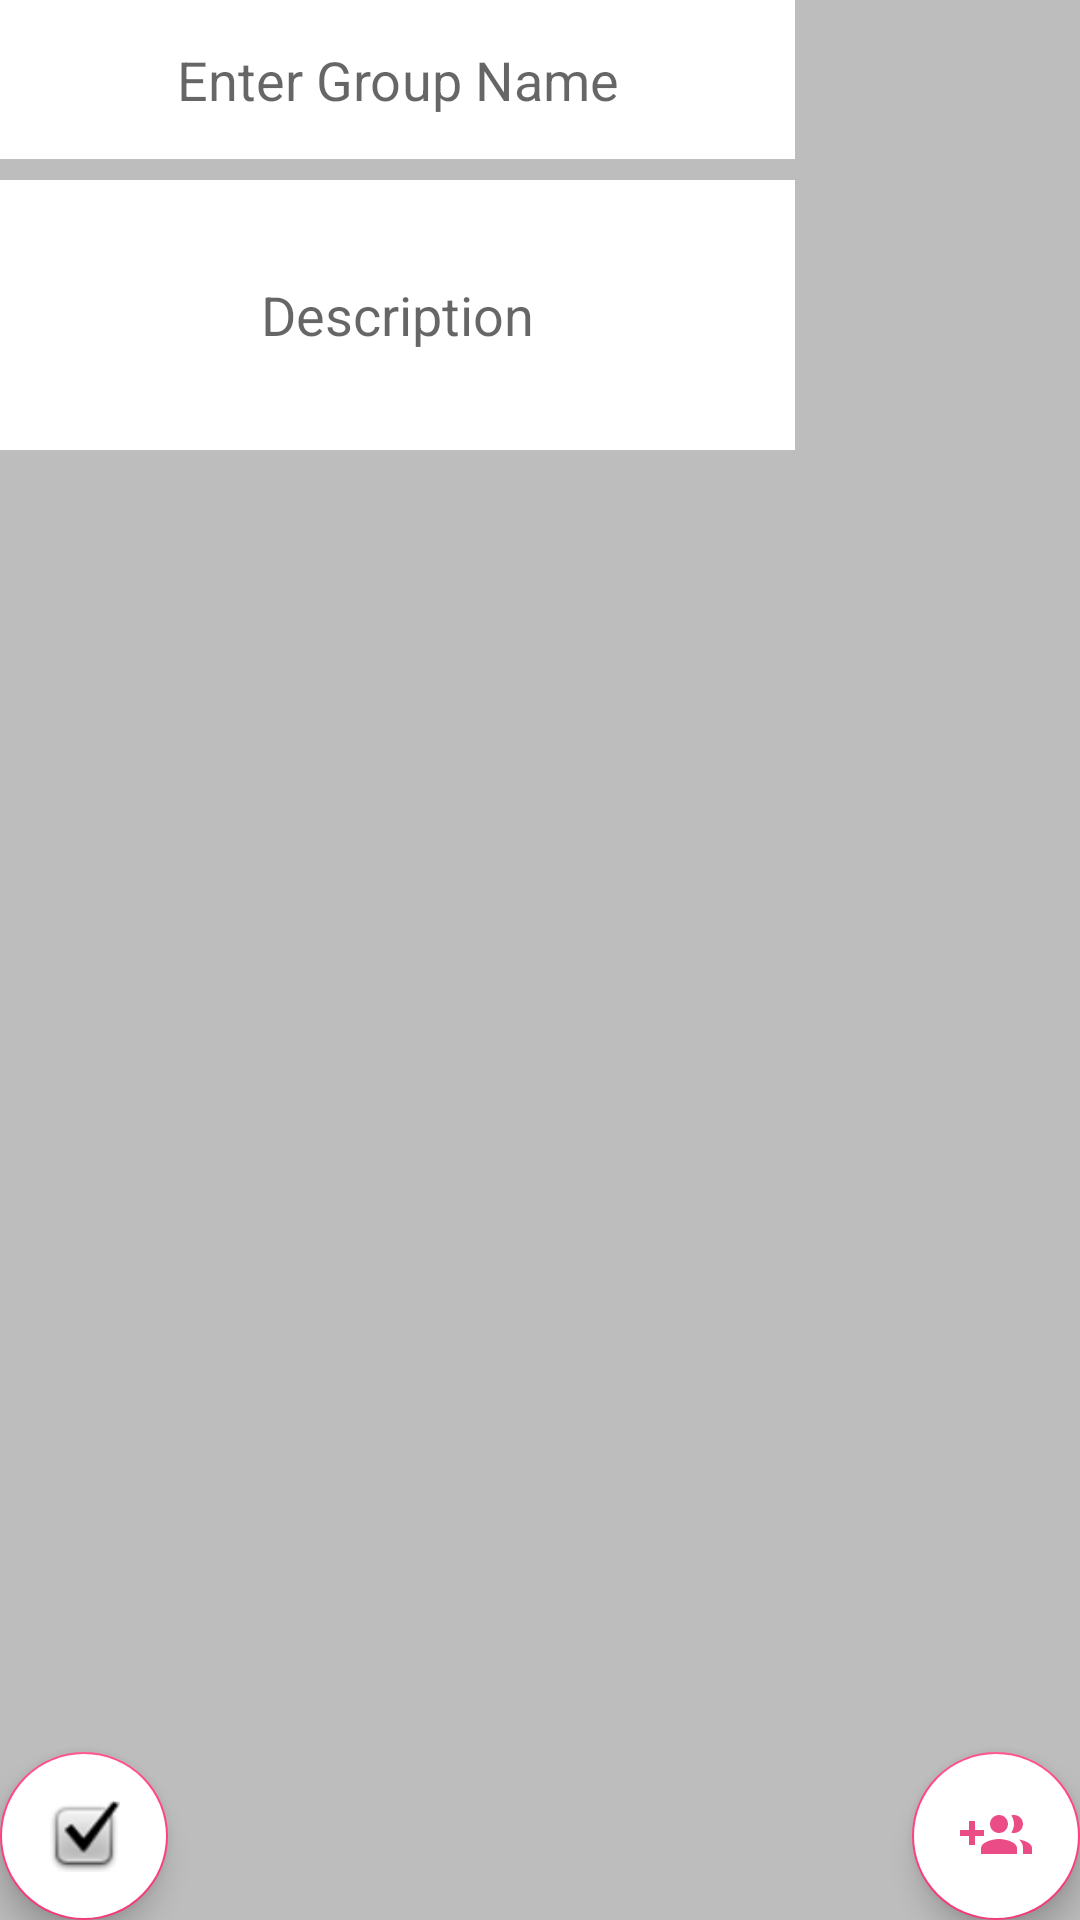

Where to tap for icons on this 1080px×1920px app screen, as [x,y]:
creategroup: [996,1836]
